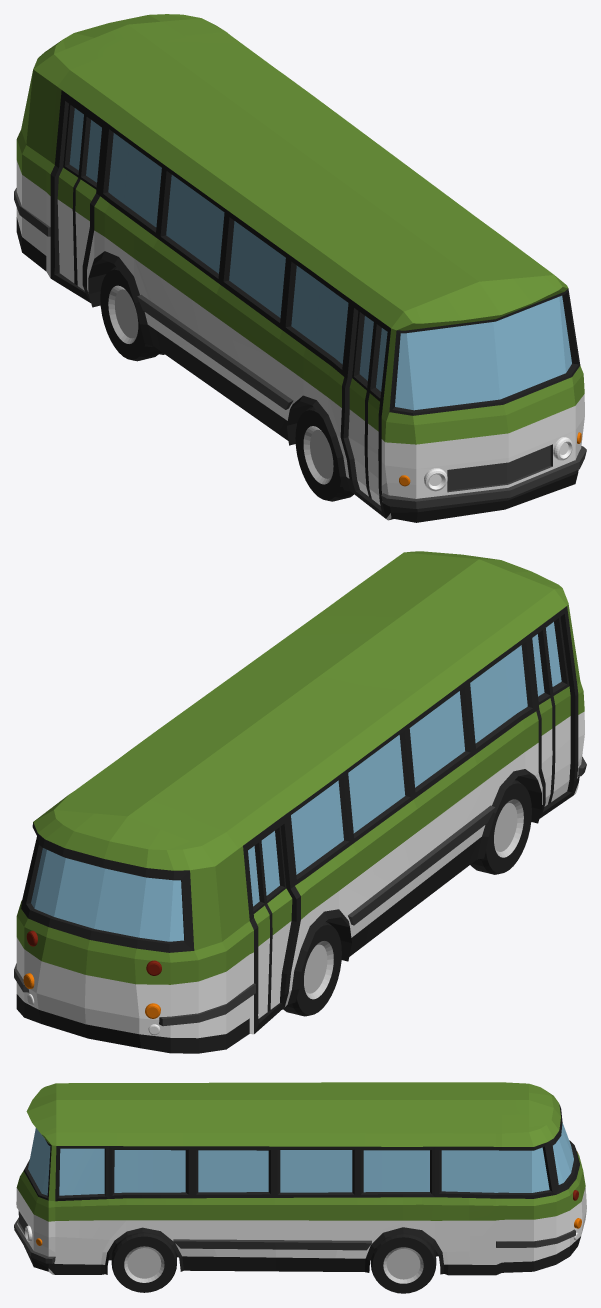
The model's file is Bus.fbx.
3 renders of one model, top to bottom at view 1: azimuth 30°, elevation 25°; view 2: azimuth 150°, elevation 25°; view 3: azimuth 270°, elevation 25°, orthographic. The views are drawn at different scales.
Parts seen in each view (by area): view 1: BUS Wheel FL; view 2: BUS Wheel FL; view 3: BUS Wheel FL.
Boxes of the visible parts, x1=… form: BUS Wheel FL: x1=14, y1=14, x2=586, y2=522; BUS Wheel FL: x1=14, y1=551, x2=586, y2=1053; BUS Wheel FL: x1=14, y1=1082, x2=586, y2=1293.
Size of the model in its own units: 7.12 by 24.38 by 7.65.
Materials: 1 (1 with a texture image).
